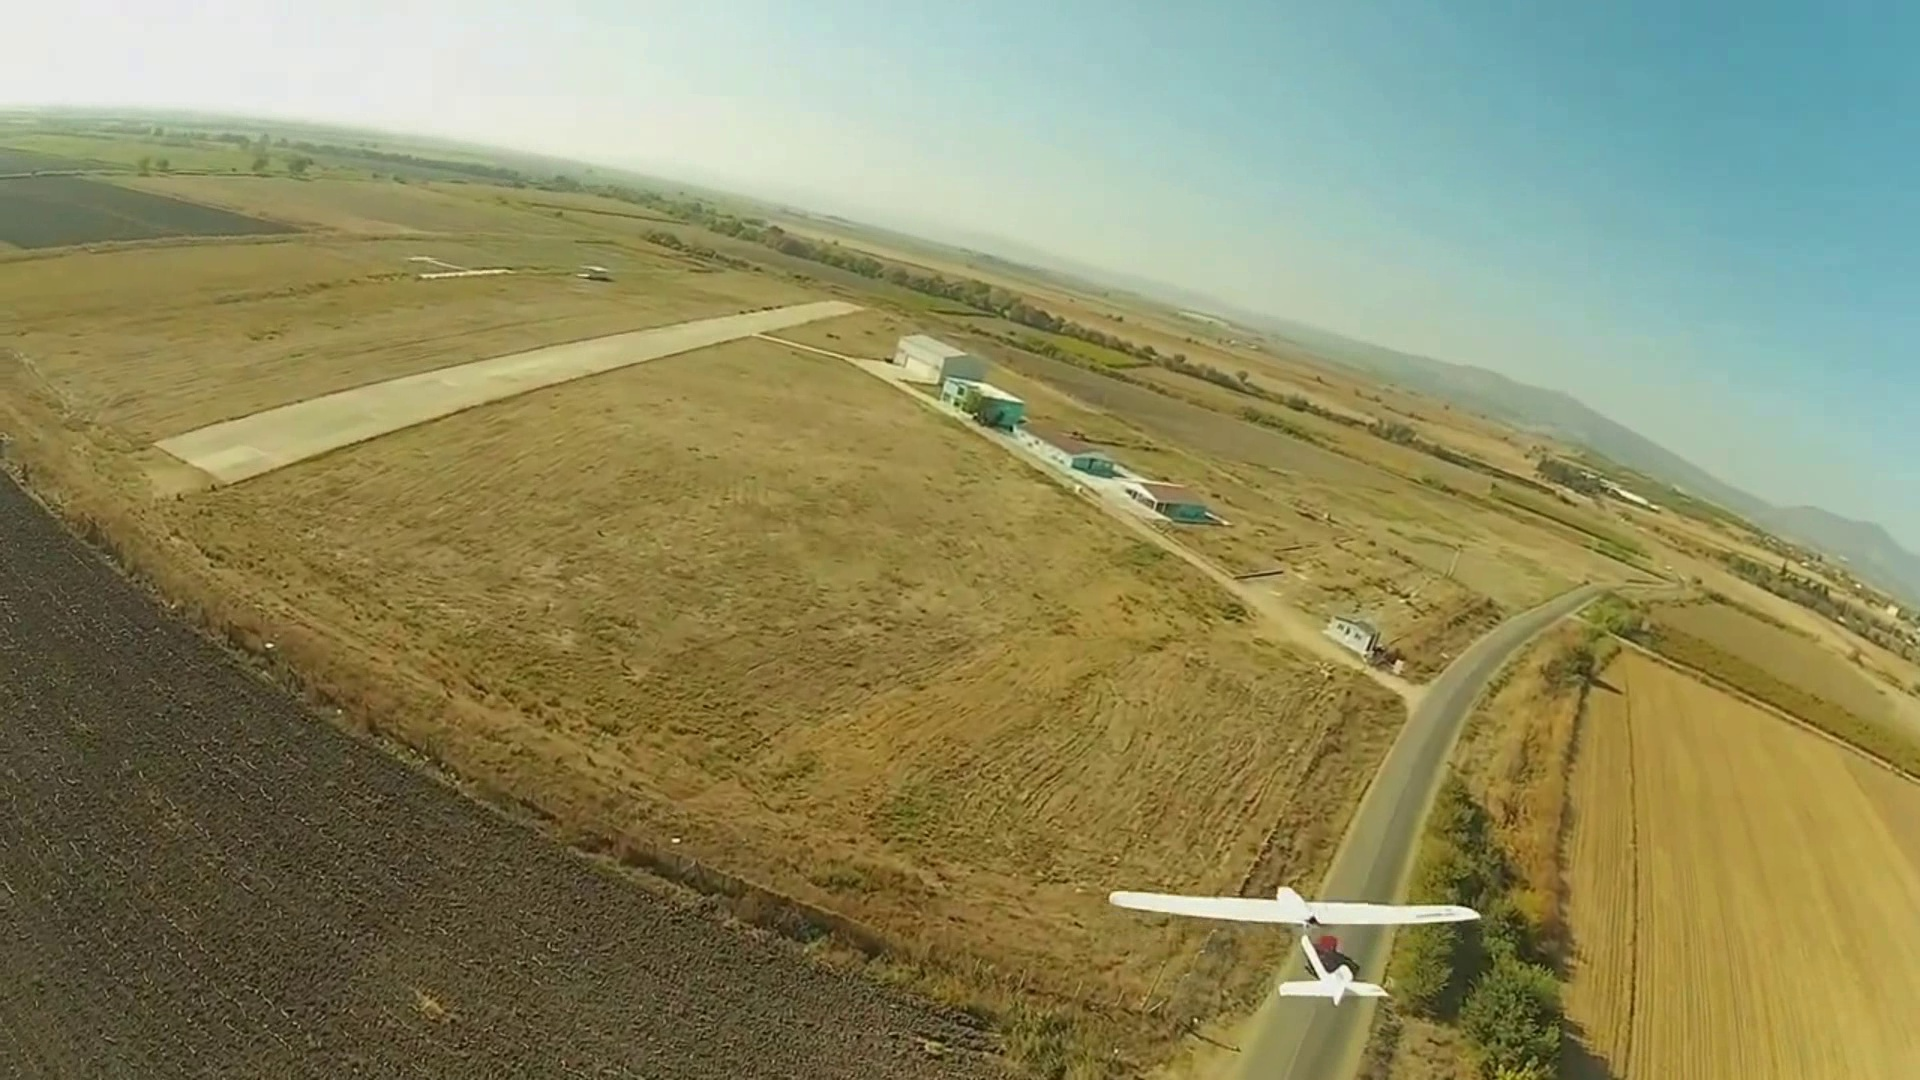airplane: (1109, 561, 1916, 1077)
